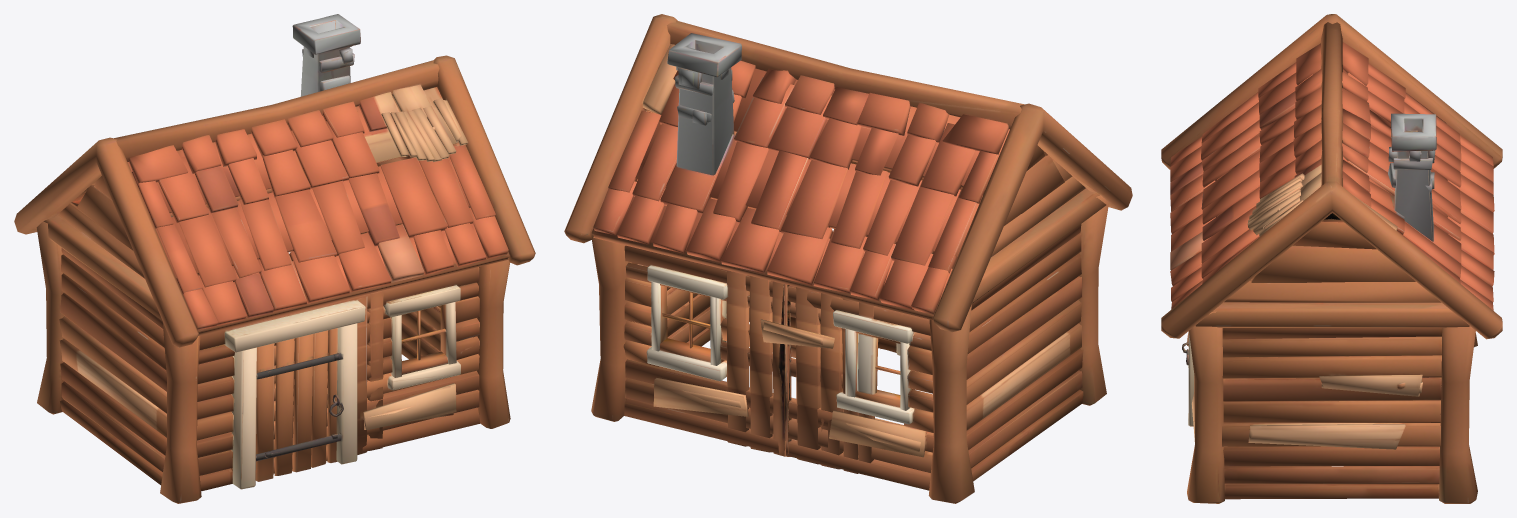
The model's file is repaired_hut.glb.
3 renders of one model, left to right at view 1: azimuth 30°, elevation 25°; view 2: azimuth 150°, elevation 25°; view 3: azimuth 270°, elevation 25°, orthographic. The views are drawn at different scales.
Parts seen in each view (by area): view 1: mesh_node; view 2: mesh_node; view 3: mesh_node.
Boxes of the visible parts, left/top/right/bottom form: mesh_node: left=14, top=14, right=535, bottom=503; mesh_node: left=564, top=14, right=1132, bottom=503; mesh_node: left=1161, top=14, right=1502, bottom=503.
Bounding box in the file's own units: 1 × 0.8945 × 0.8066.
1 material, 1 textured.
